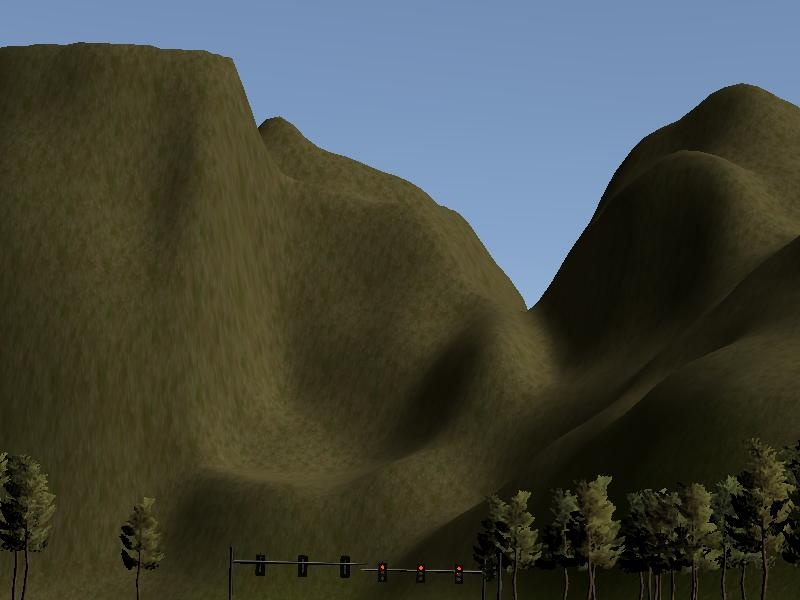red: (409, 559, 433, 585), (375, 558, 392, 587), (451, 559, 466, 587)
